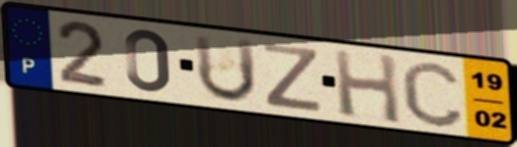0: (122, 27, 172, 95)
2: (54, 19, 111, 91)
C: (398, 58, 467, 130)
H: (330, 47, 404, 126)
U: (191, 32, 260, 105)
Z: (261, 41, 323, 114)
